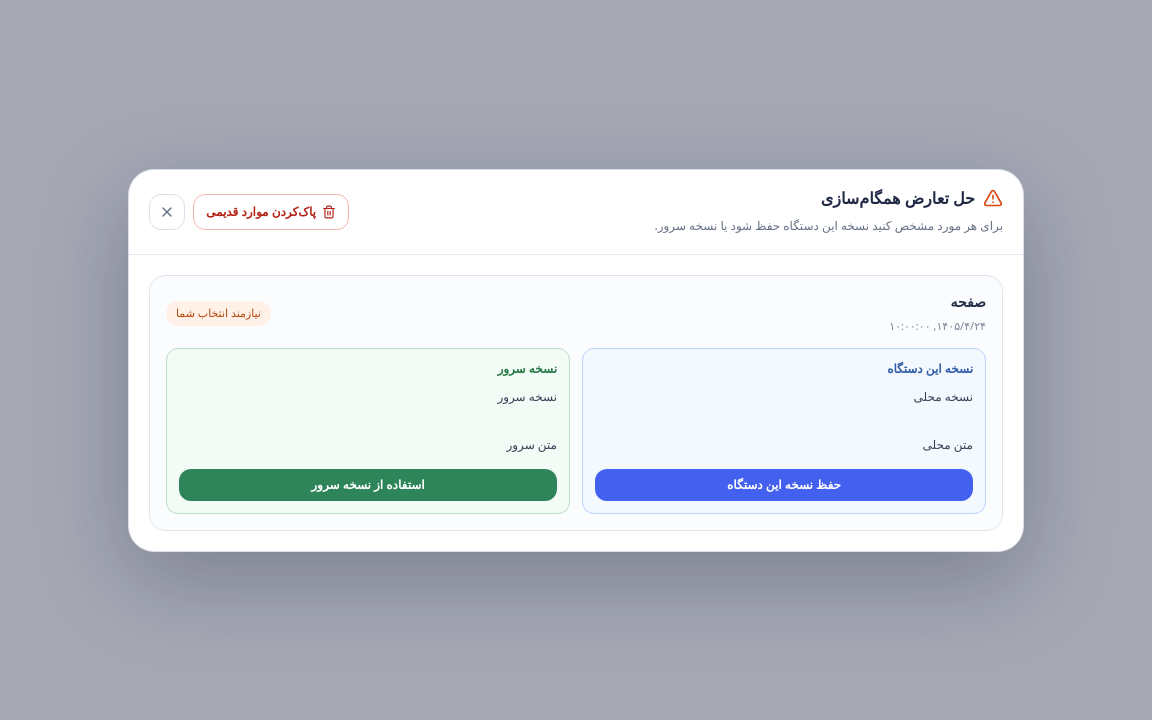
Scenario: SyncConflictDialog › reports a failed obsolete-conflict cleanup
What coordinates should you click on to do the following:
click the button with test id "conflict-discard-all"
I would click on:
 (271, 212)
Its box is [193,194,349,230].
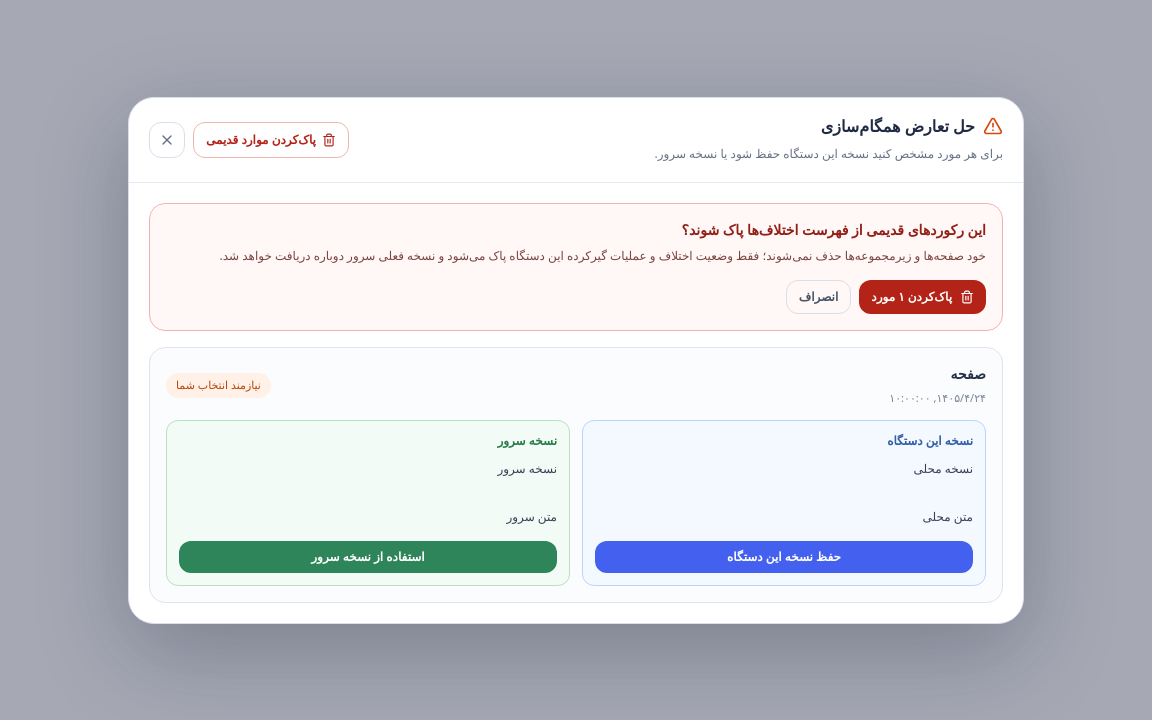
What coordinates should you click on to do the following:
click the button with test id "conflict-confirm-discard-all"
I would click on:
 (923, 296)
Its box is [859,280,986,314].
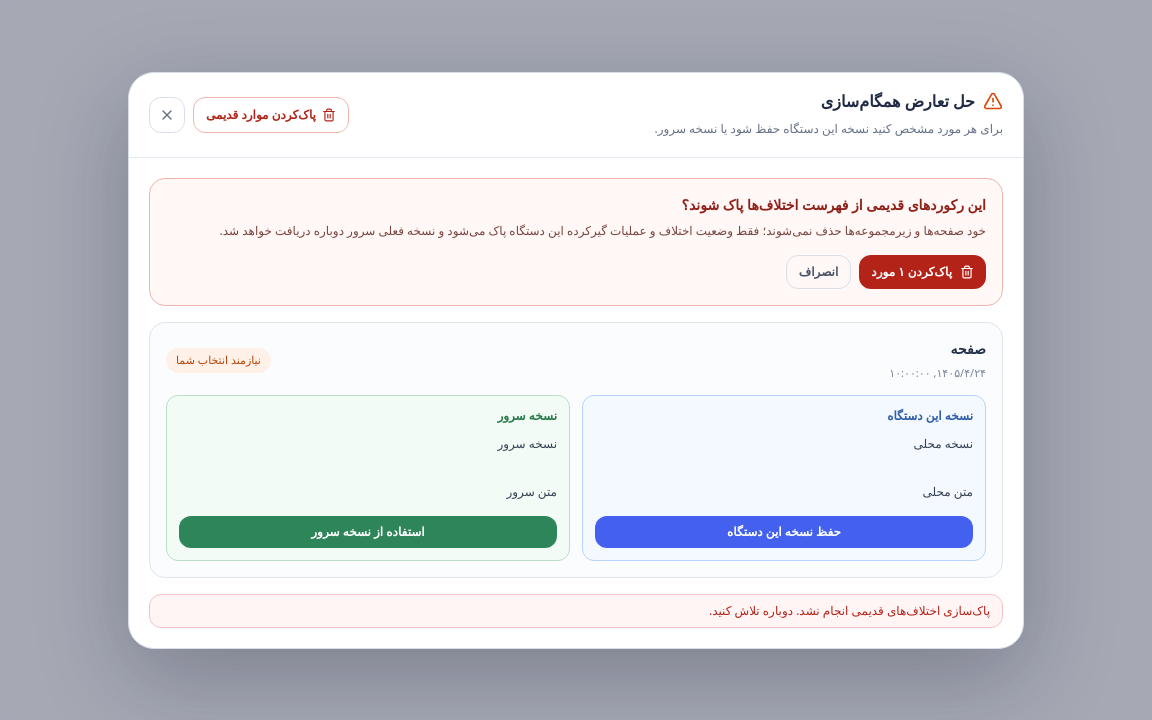
Result: the button with test id "conflict-confirm-discard-all" is enabled at [859,254,986,288]
Result: the text "پاک‌سازی اختلاف‌های قدیمی انجام نشد. دوباره تلاش کنید." is shown at [149,594,1003,628]
